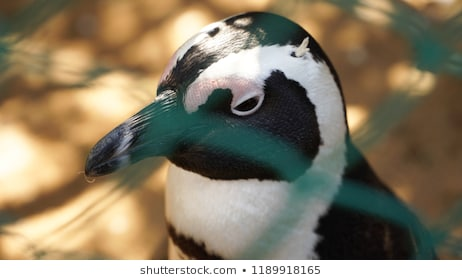penguin: (33, 2, 438, 260)
